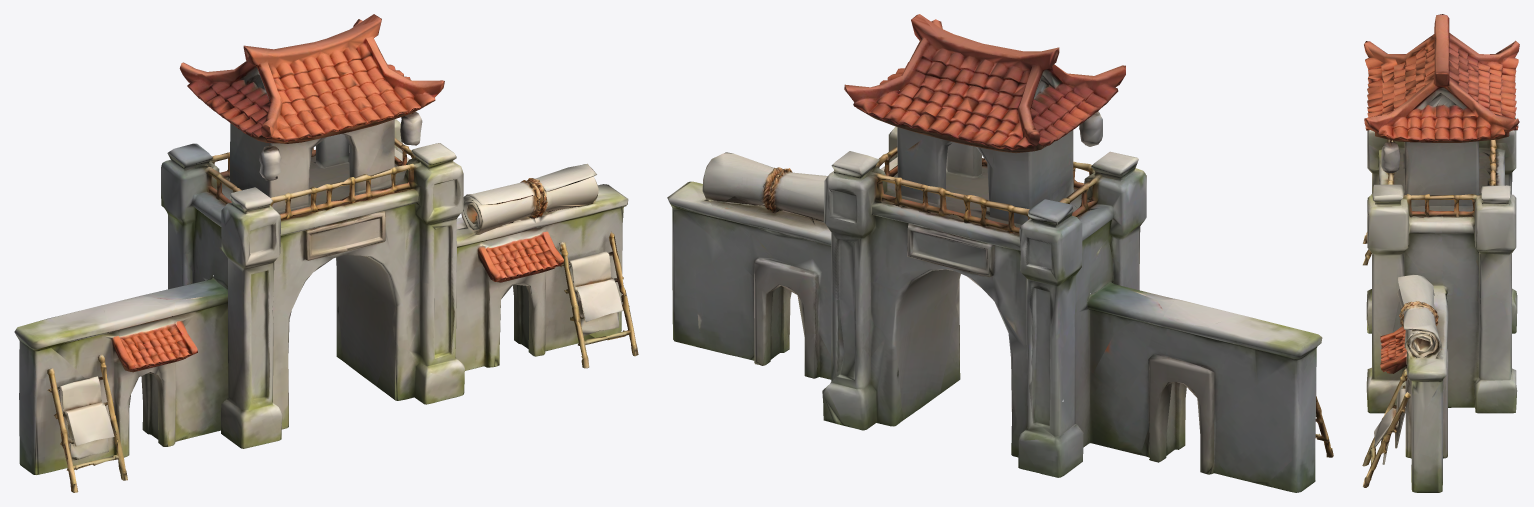
Rendered from cong-lang-giay-vua.4a23fb51.glb.
3 views of the same model, side by side, from view 1: azimuth 30°, elevation 25°; view 2: azimuth 150°, elevation 25°; view 3: azimuth 270°, elevation 25° (orthographic). The views are drawn at different scales.
Parts seen in each view (by area): view 1: tripo_node_a24edd46-532c-49d4-b4dc-27e4c0dc1a52; view 2: tripo_node_a24edd46-532c-49d4-b4dc-27e4c0dc1a52; view 3: tripo_node_a24edd46-532c-49d4-b4dc-27e4c0dc1a52.
Boxes of the visible parts, left/top/right/bottom form: tripo_node_a24edd46-532c-49d4-b4dc-27e4c0dc1a52: left=14, top=14, right=638, bottom=492; tripo_node_a24edd46-532c-49d4-b4dc-27e4c0dc1a52: left=667, top=14, right=1333, bottom=492; tripo_node_a24edd46-532c-49d4-b4dc-27e4c0dc1a52: left=1362, top=14, right=1519, bottom=492.
Size of the model in its own units: 0.9794 by 0.5662 by 0.2517.
1 material, 1 textured.
